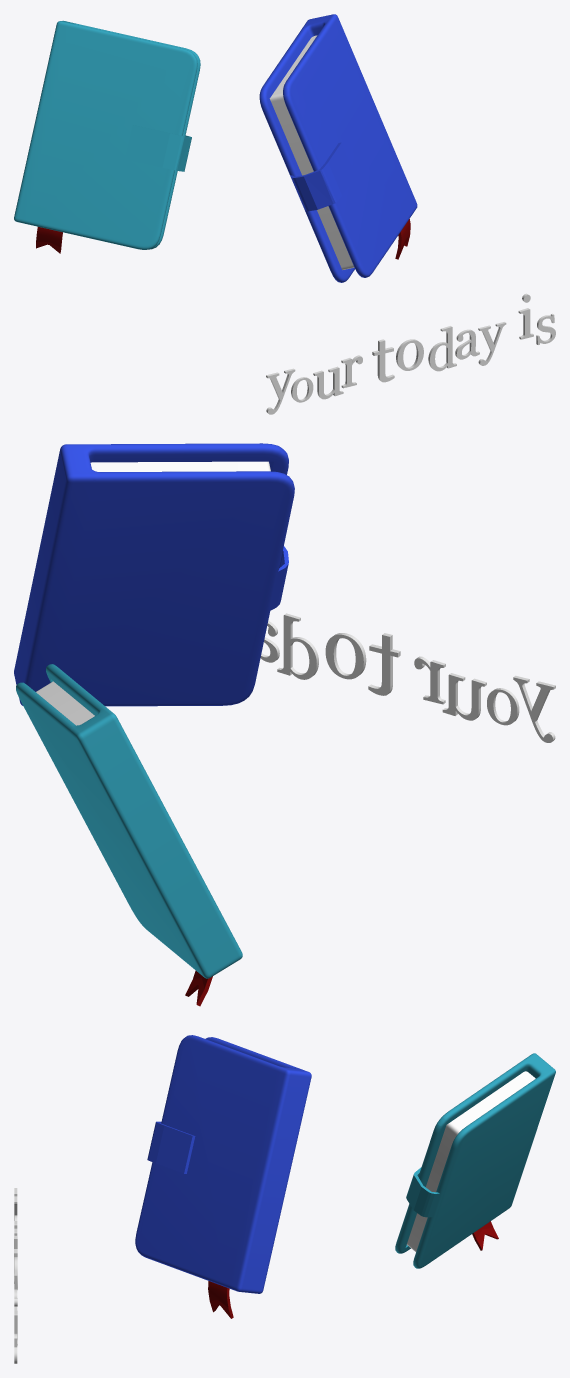
File: book.fbx
The picture shows the model from 3 angles, top to bottom: view 1: azimuth 30°, elevation 25°; view 2: azimuth 150°, elevation 25°; view 3: azimuth 270°, elevation 25°; orthographic projection. The views are drawn at different scales.
Parts seen in each view (by area): view 1: Box009, Box002, book, Object015, Box010; view 2: Box002, Box009, book, Object015, book001, Object007, Object013, Object, Object011, Object009; view 3: Box002, Box009, book001, Box006.
Part boxes in pixels (x1,y1,x2,y2): Box009: (14,20,200,249); Box002: (259,14,417,282); book: (269,35,354,269); Object015: (428,326,456,371); Box010: (36,227,62,253); Box002: (14,443,294,706); Box009: (16,664,242,978); book: (90,461,270,471); Object015: (277,613,318,679); book001: (36,681,94,725); Object007: (442,673,486,720); Object013: (325,633,366,679); Object: (513,675,555,742); Object011: (368,633,400,695); Object009: (414,656,445,704); Box002: (135,1035,311,1293); Box009: (395,1053,555,1268); book001: (407,1071,535,1251); Box006: (208,1281,233,1318).
Size of the model in its own units: 121 by 99.87 by 182.
